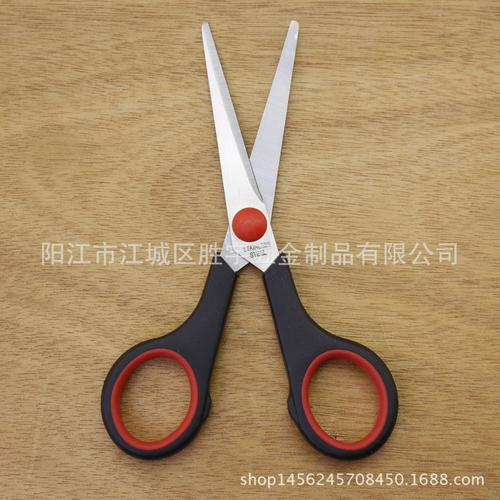scissor: (102, 19, 398, 461)
